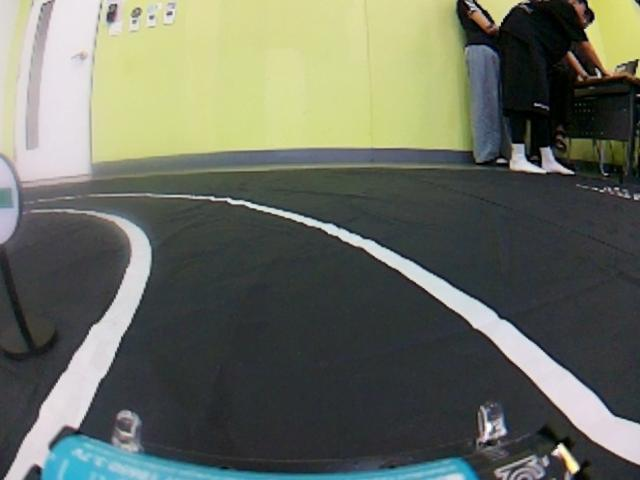sign_left: (0, 145, 33, 258)
straight: (21, 228, 605, 479)
